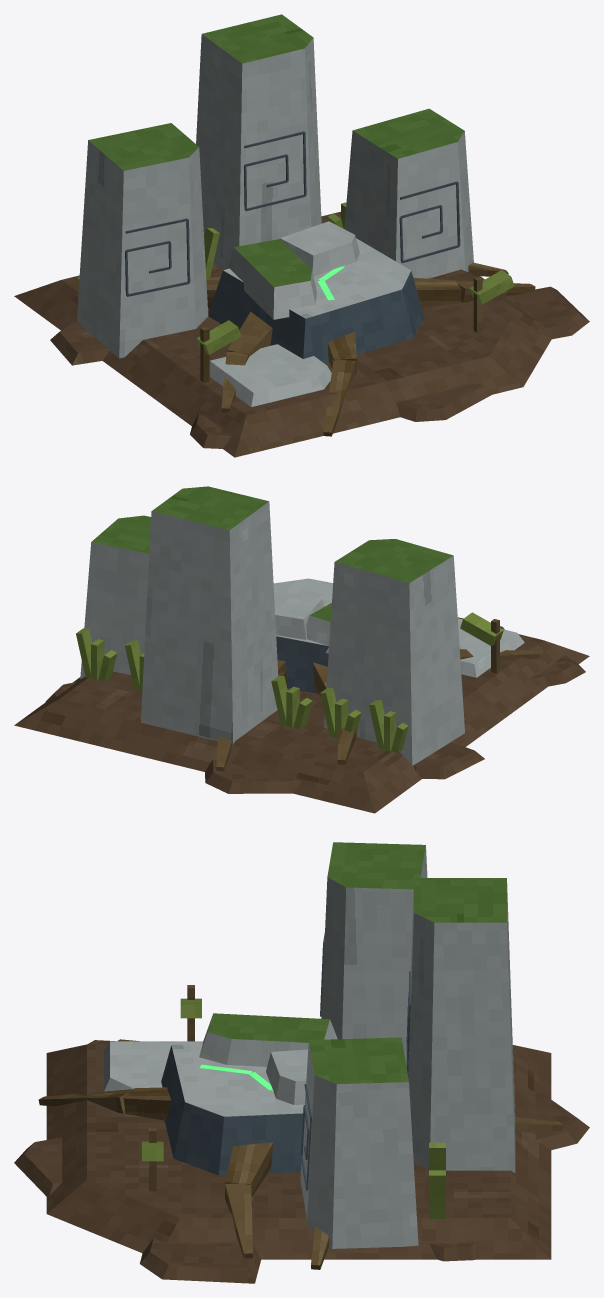
The model's file is arboreal_ancient_lair_v2.glb.
3 views of the same model, one above another, from view 1: azimuth 30°, elevation 25°; view 2: azimuth 150°, elevation 25°; view 3: azimuth 270°, elevation 25° (orthographic). The views are drawn at different scales.
Parts seen in each view (by area): view 1: Model; view 2: Model; view 3: Model.
Part boxes in pixels (x1=…): Model: x1=14, y1=14, x2=589, y2=457; Model: x1=14, y1=486, x2=589, y2=813; Model: x1=14, y1=842, x2=589, y2=1283.
Size of the model in its own units: 1.27 by 0.649 by 1.26.
Materials: 1 (1 with a texture image).
